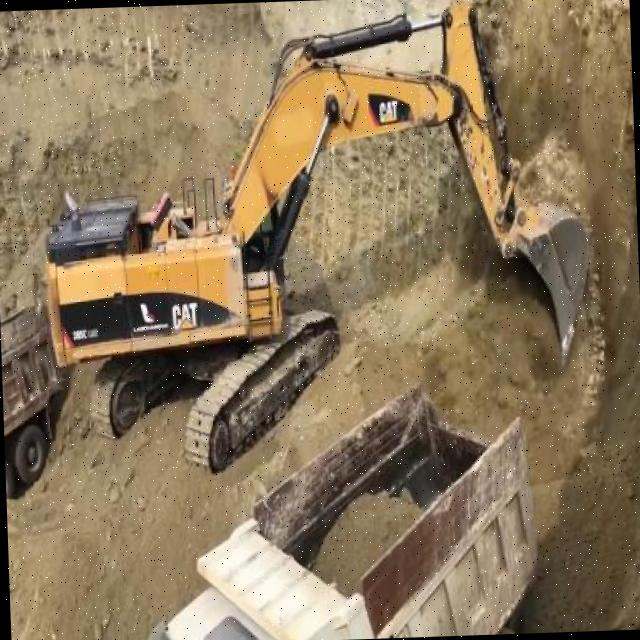Dump Truck: (124, 374, 538, 640), (0, 289, 69, 508)
Excavator: (33, 0, 594, 478)
